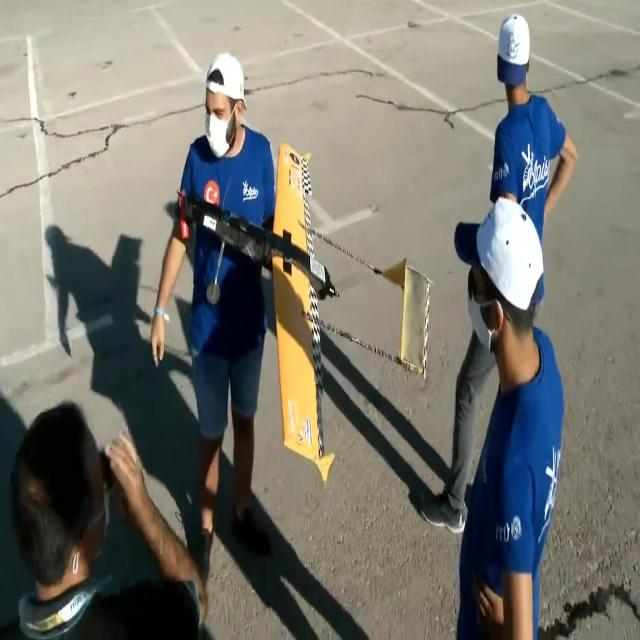iha: (175, 140, 436, 487)
